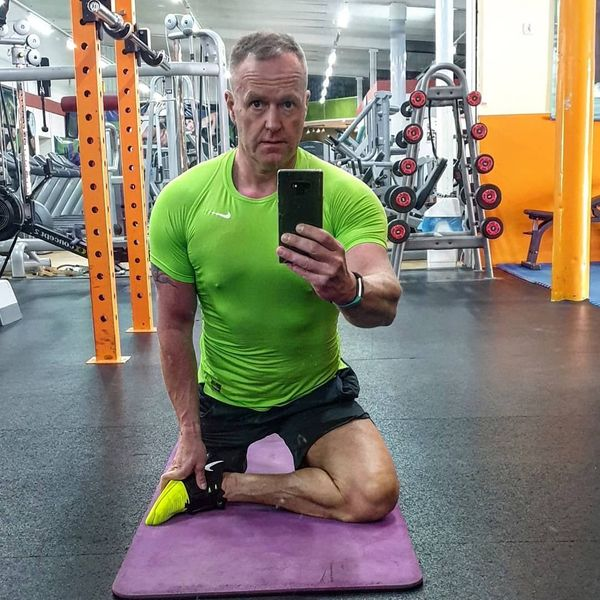nike: (208, 208, 233, 221)
